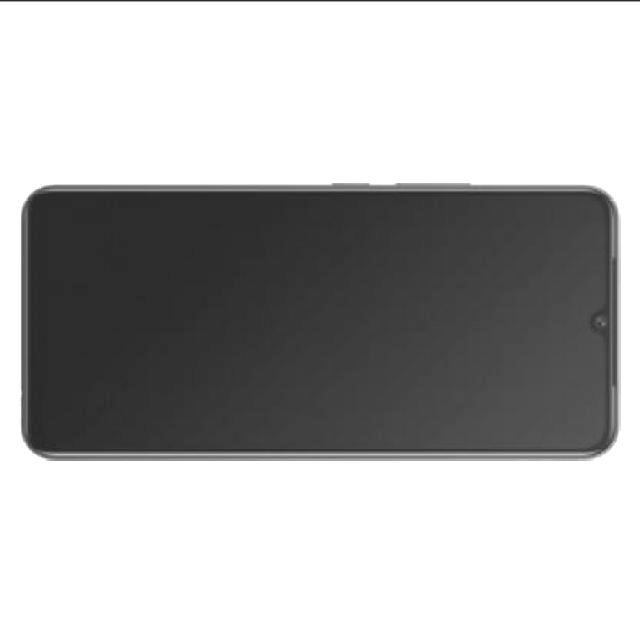fake: (20, 179, 622, 459)
